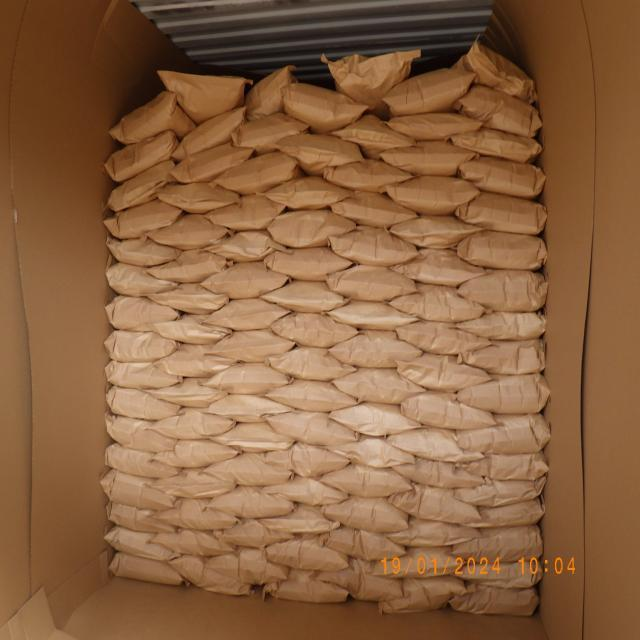gunny_bag: (451, 40, 537, 102), (157, 65, 246, 118), (322, 51, 420, 98), (110, 94, 198, 146), (216, 146, 295, 199), (384, 68, 476, 112), (280, 80, 364, 128), (401, 388, 497, 430), (330, 111, 417, 156), (388, 427, 485, 467), (104, 158, 178, 210), (461, 85, 541, 133), (174, 104, 248, 155), (101, 128, 177, 176), (166, 554, 248, 598), (330, 226, 418, 267), (459, 374, 549, 414), (455, 272, 548, 310), (459, 229, 547, 269), (102, 467, 176, 514), (458, 156, 544, 196), (261, 567, 349, 606), (460, 416, 550, 454), (203, 260, 288, 300), (318, 564, 403, 604), (207, 190, 286, 233), (393, 286, 487, 322), (393, 246, 486, 282), (264, 278, 352, 316), (336, 366, 424, 404), (391, 489, 482, 525), (266, 534, 352, 572), (332, 188, 418, 226), (456, 528, 546, 564), (398, 456, 487, 492), (460, 192, 544, 230), (270, 312, 361, 347), (326, 264, 414, 300), (208, 451, 291, 489), (334, 330, 421, 366), (274, 344, 356, 382), (268, 209, 354, 245), (389, 177, 477, 212), (399, 353, 487, 388), (236, 62, 290, 119), (277, 132, 362, 168), (450, 582, 540, 616), (106, 356, 182, 396), (266, 410, 360, 442), (163, 177, 240, 216), (323, 157, 414, 190), (208, 330, 296, 364), (107, 414, 178, 456), (108, 522, 179, 564), (380, 142, 472, 174), (381, 578, 467, 612), (398, 320, 489, 352), (104, 441, 180, 479), (325, 498, 409, 532), (322, 466, 414, 497), (109, 552, 184, 590), (333, 406, 422, 438), (207, 548, 288, 583), (323, 526, 406, 560), (102, 202, 182, 237), (391, 214, 478, 246), (270, 176, 351, 210), (172, 144, 255, 177), (208, 297, 291, 330), (278, 440, 352, 477), (104, 384, 180, 420), (212, 486, 292, 520), (206, 361, 293, 392), (458, 342, 545, 373), (264, 246, 353, 276), (456, 475, 545, 505), (156, 249, 230, 285), (156, 278, 230, 314), (457, 122, 540, 154), (148, 530, 236, 560), (330, 300, 418, 330), (154, 214, 229, 249), (230, 114, 306, 148), (382, 546, 462, 578), (455, 310, 546, 338), (385, 518, 481, 544), (274, 381, 357, 411), (106, 298, 179, 332), (466, 452, 548, 482), (104, 329, 178, 362), (150, 410, 237, 438), (105, 505, 181, 537), (224, 514, 295, 548), (206, 392, 292, 420), (457, 560, 542, 588), (109, 236, 182, 268), (156, 500, 242, 527), (156, 442, 238, 470), (212, 422, 294, 450), (165, 344, 232, 378), (106, 264, 175, 297), (208, 228, 278, 260), (388, 112, 481, 136), (142, 380, 232, 404), (276, 478, 348, 508), (340, 441, 418, 468), (161, 314, 231, 344), (464, 504, 544, 528), (277, 504, 338, 532), (166, 473, 237, 497)
